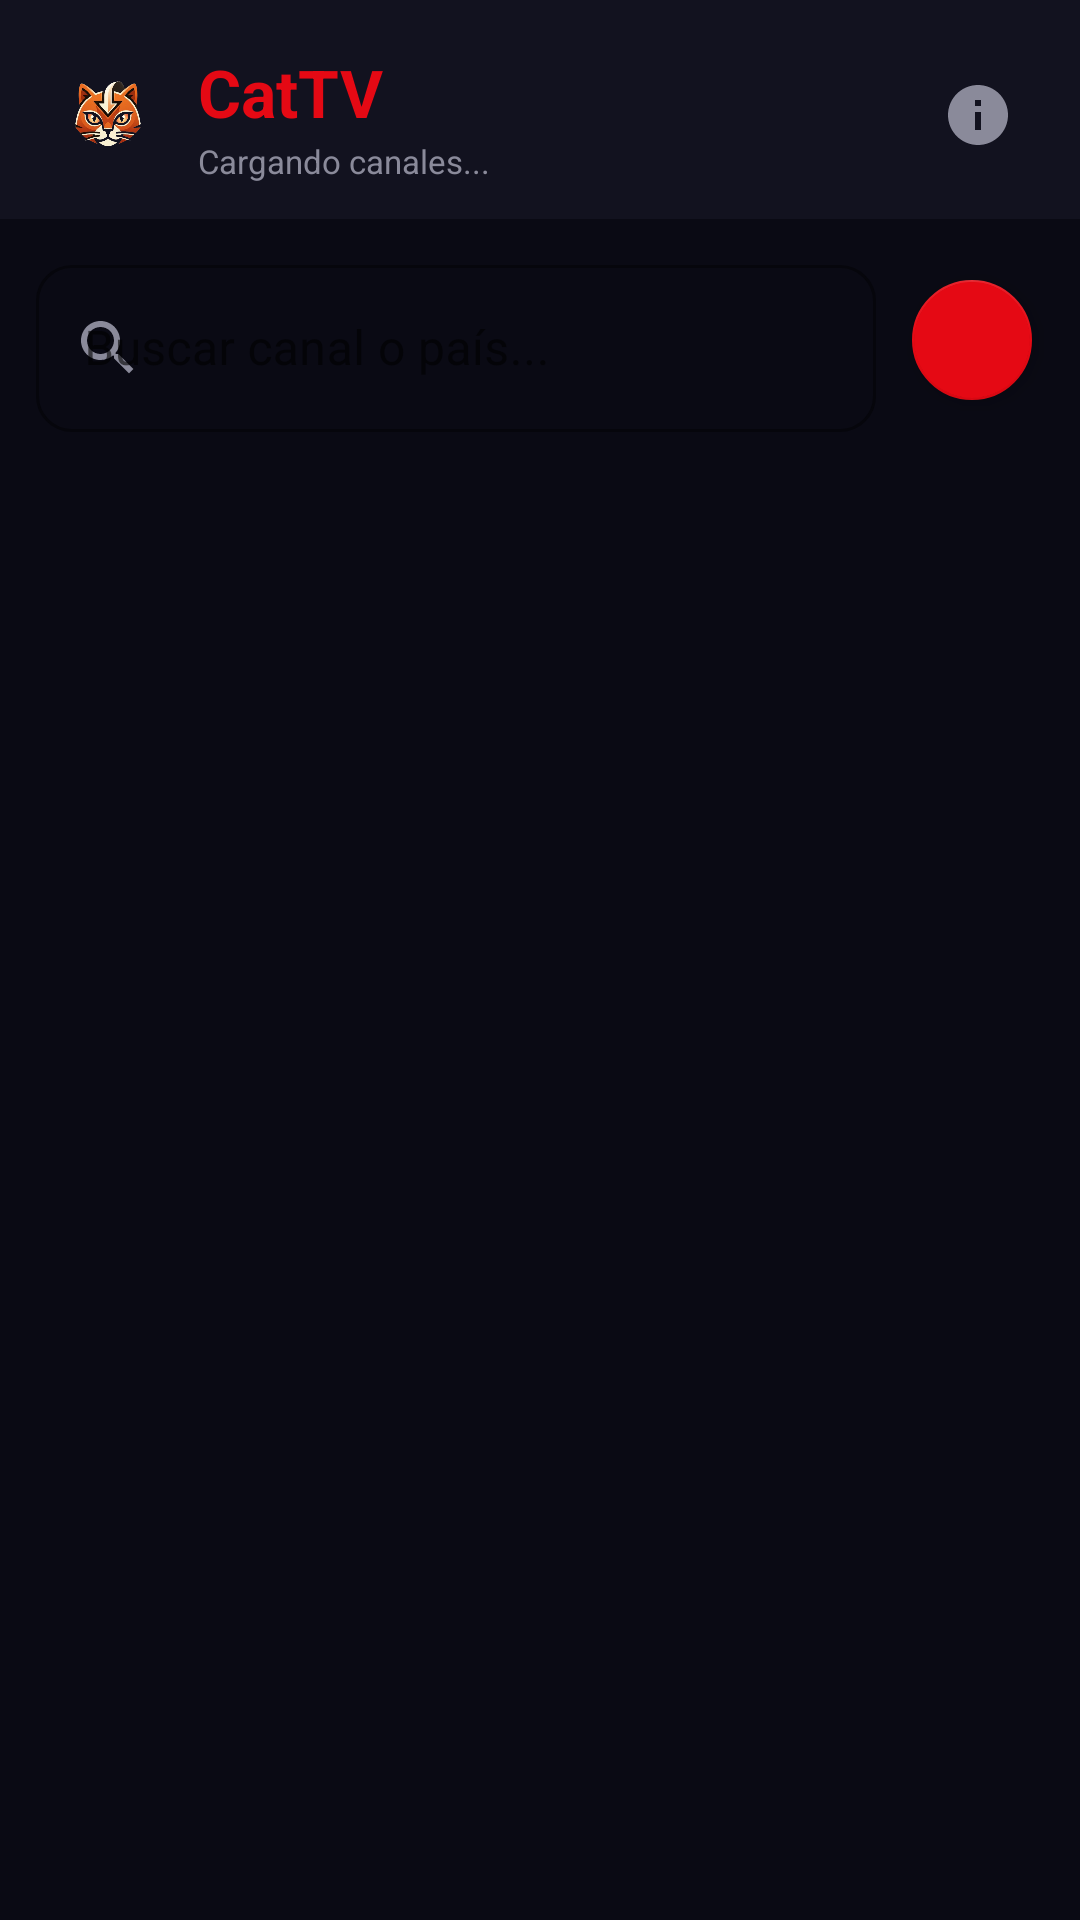

Where to tap for icons on this 1080x1920 app screen, as point (x, y):
Acerca de: point (978, 115)
